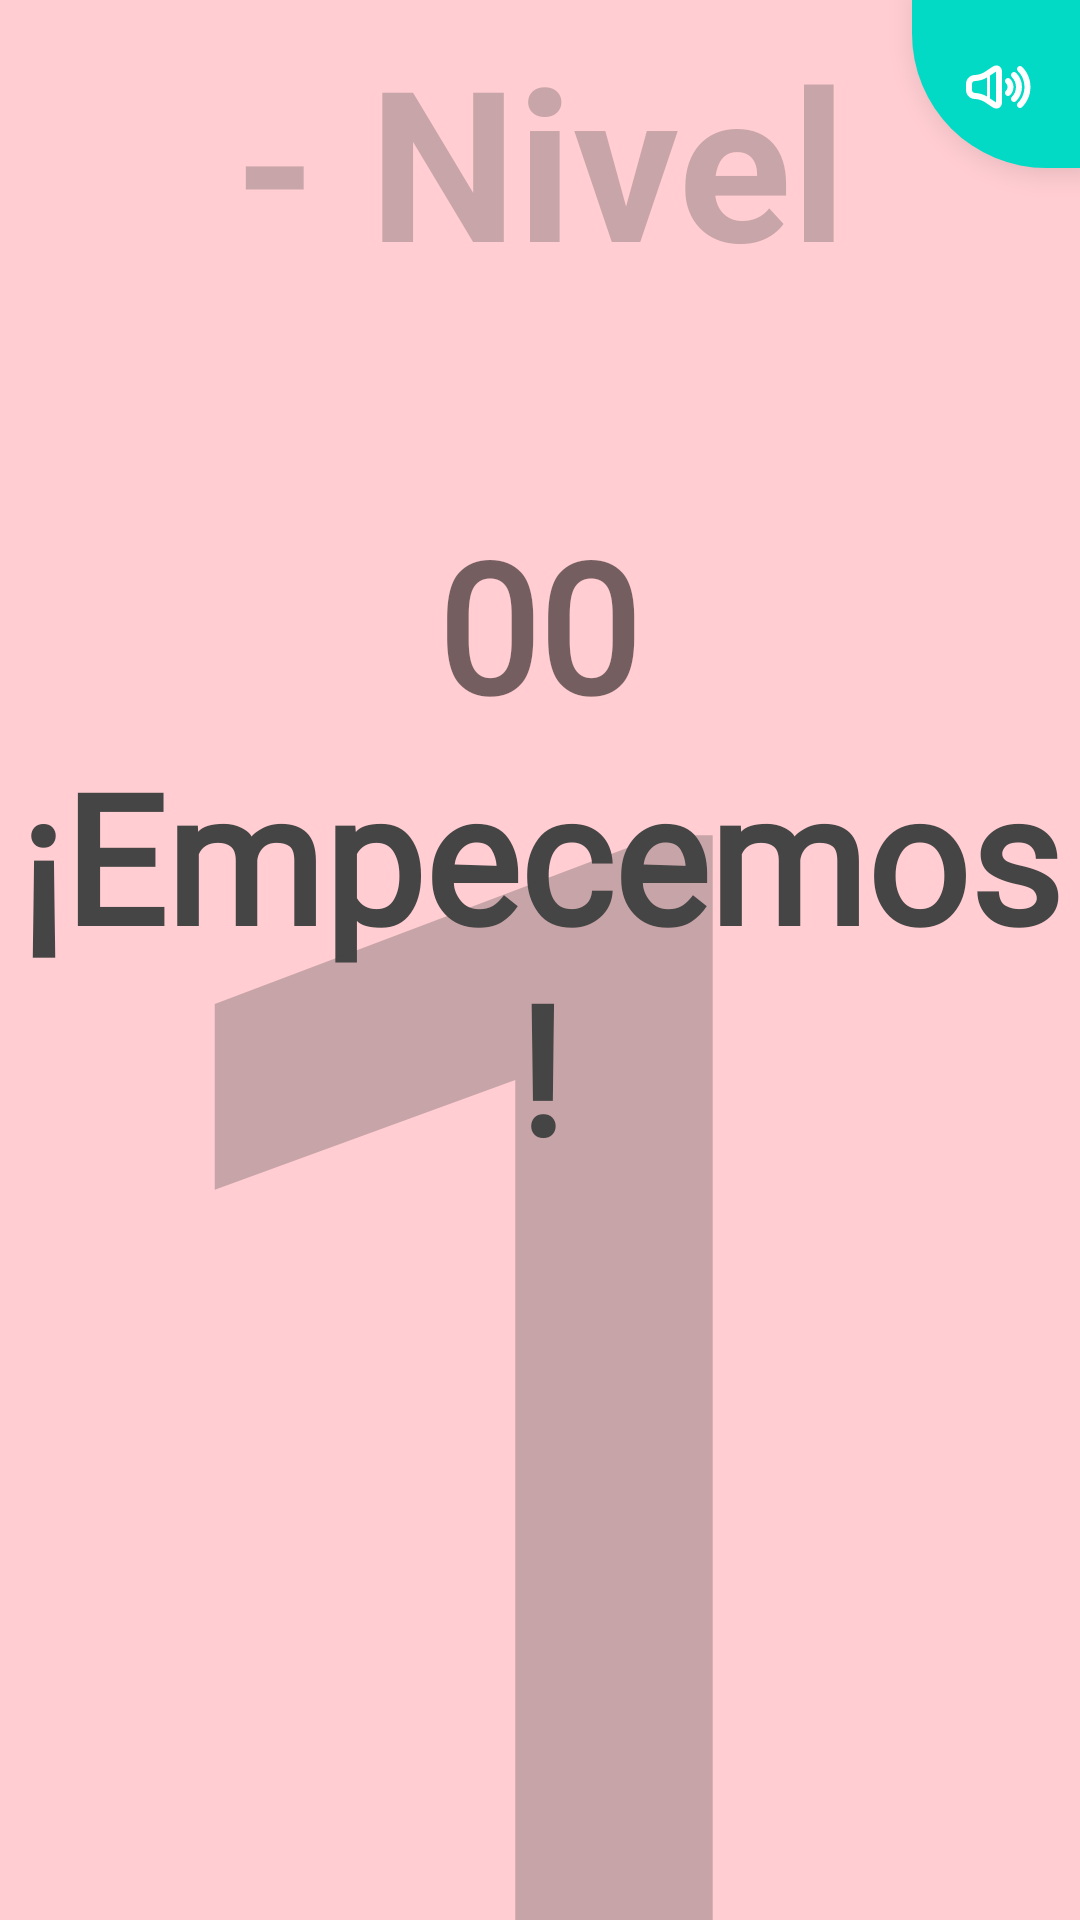

Screen size 1080 × 1920. Icon name, then its center in pixels as [x,y]:
volume up: [996,84]
